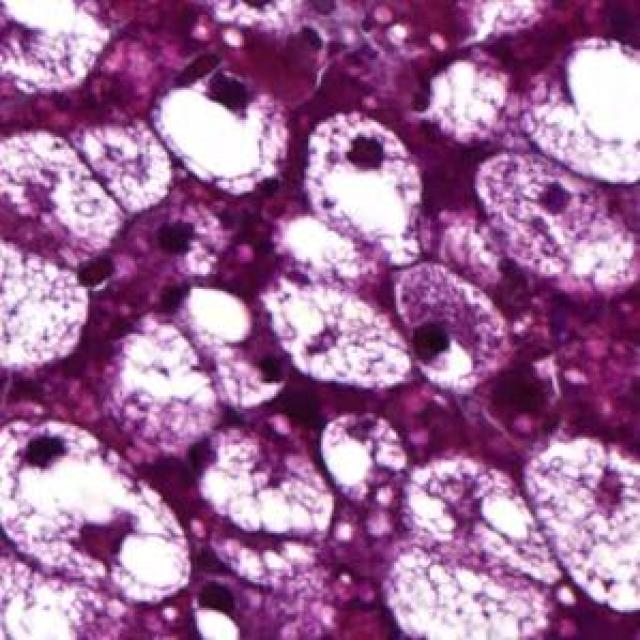ballooning: (0, 411, 195, 608), (518, 430, 640, 621), (302, 107, 428, 270), (317, 407, 413, 509)
